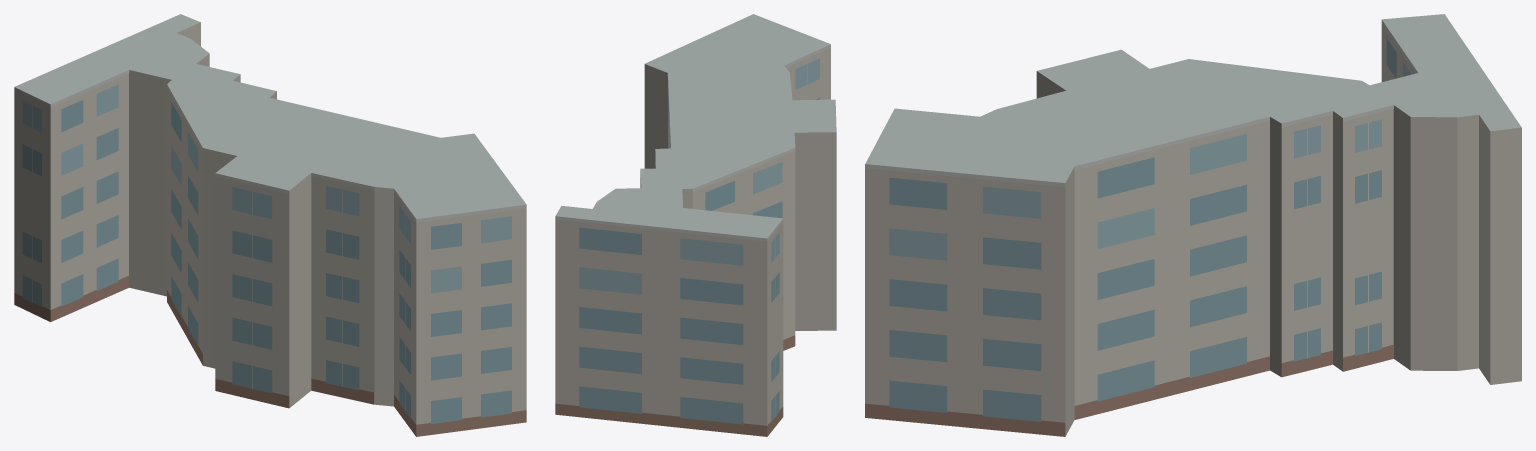
The model's file is survey-upis-32928365.glb.
The picture shows the model from 3 angles, left to right: view 1: azimuth 30°, elevation 25°; view 2: azimuth 150°, elevation 25°; view 3: azimuth 270°, elevation 25°; orthographic projection. The views are drawn at different scales.
Visible parts, largest first — view 1: survey-upis-32928365.tmp; view 2: survey-upis-32928365.tmp; view 3: survey-upis-32928365.tmp.
Boxes of the visible parts, x1=… form: survey-upis-32928365.tmp: x1=14, y1=14, x2=526, y2=436; survey-upis-32928365.tmp: x1=555, y1=14, x2=836, y2=436; survey-upis-32928365.tmp: x1=865, y1=14, x2=1521, y2=436.
Size of the model in its own units: 22.02 by 15.4 by 36.13.
